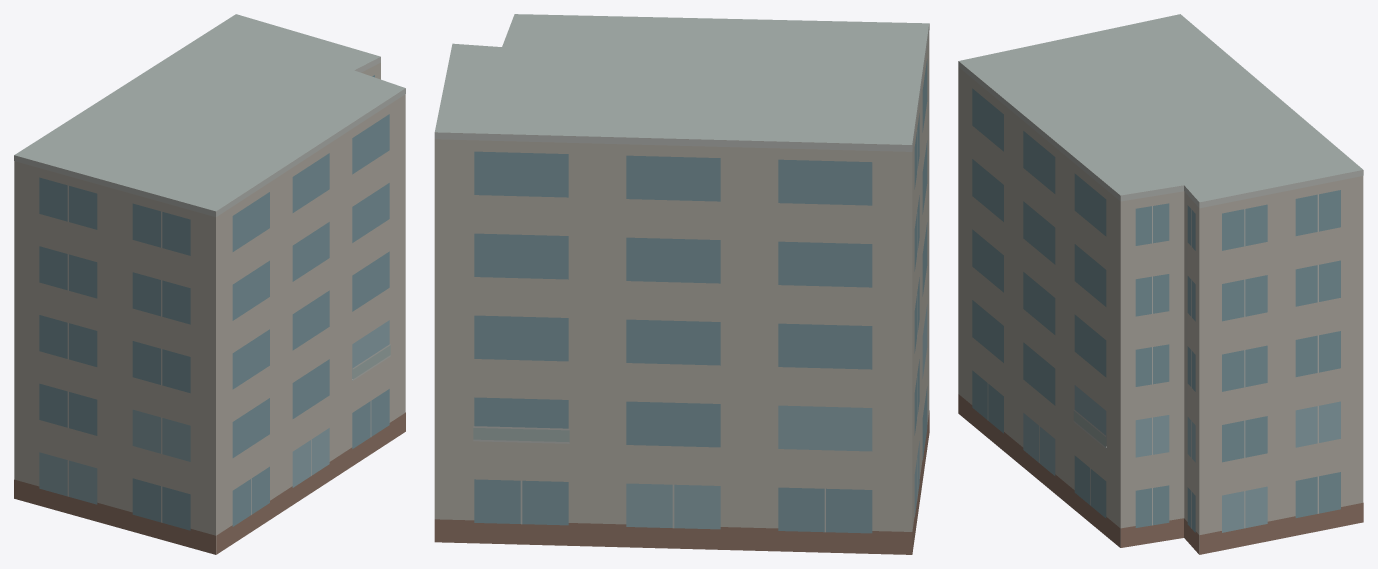
The model's file is survey-upis-32891439.glb.
The picture shows the model from 3 angles, left to right: view 1: azimuth 30°, elevation 25°; view 2: azimuth 150°, elevation 25°; view 3: azimuth 270°, elevation 25°; orthographic projection. The views are drawn at different scales.
Visible parts, largest first — view 1: survey-upis-32891439.tmp; view 2: survey-upis-32891439.tmp; view 3: survey-upis-32891439.tmp.
Part boxes in pixels (left/top/right/bottom): survey-upis-32891439.tmp: left=14, top=14, right=405, bottom=554; survey-upis-32891439.tmp: left=434, top=14, right=929, bottom=554; survey-upis-32891439.tmp: left=958, top=14, right=1363, bottom=554.
Size of the model in its own units: 16.51 by 14.4 by 15.01.
